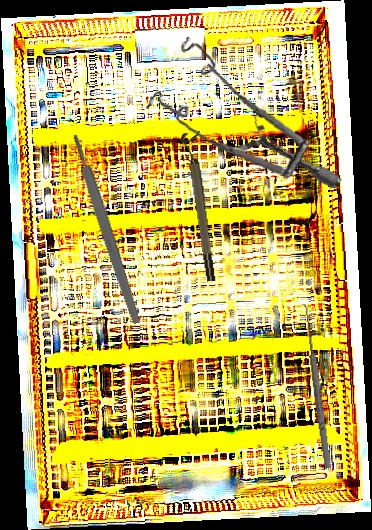Fixation Ring: (179, 131, 219, 283)
Hook Surgical: (294, 303, 334, 470)
Scalpel Handle: (69, 132, 143, 326)
Speculum: (137, 32, 356, 190)
